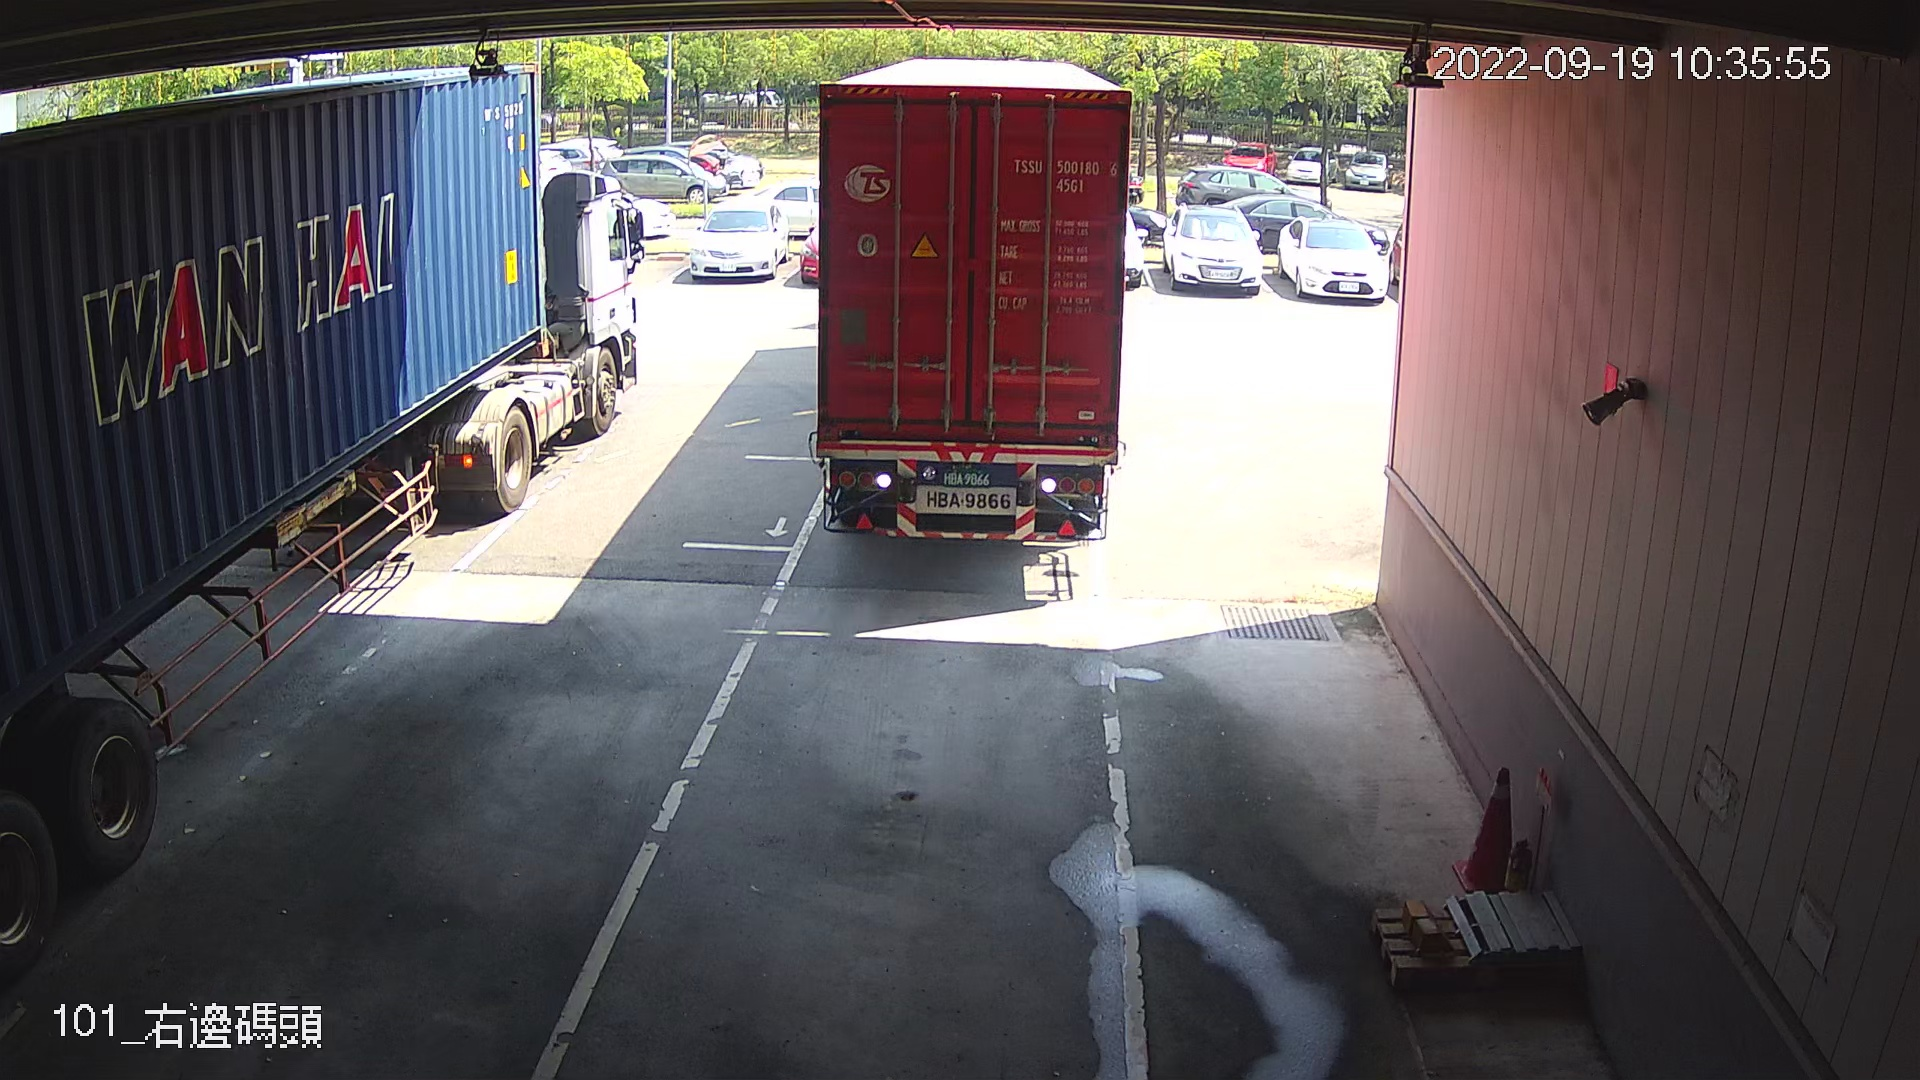container: (1004, 146, 1124, 202)
